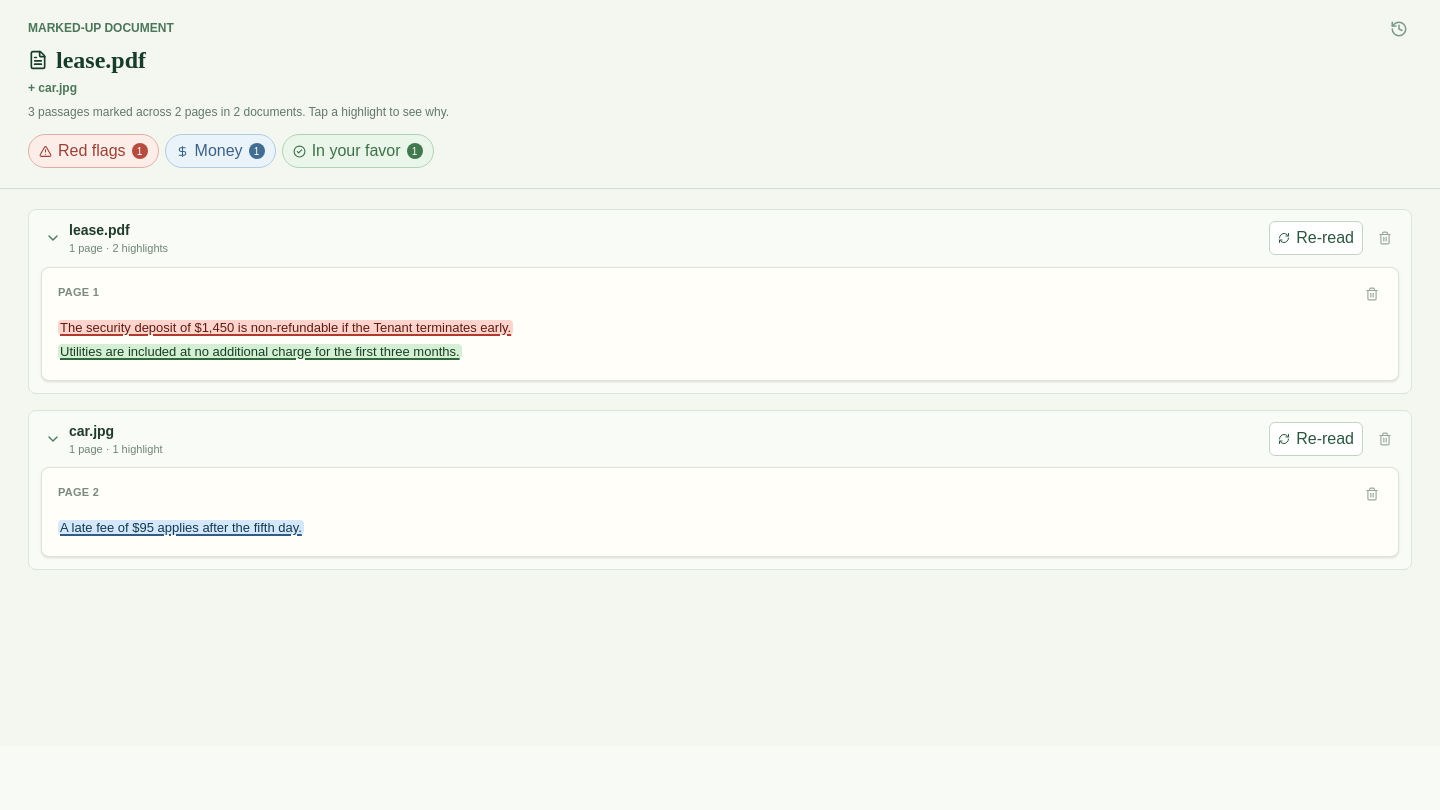
it: documents in the panel › keeps the file when deleting it fails
The image size is (1440, 810).
Click the button named "Delete car.jpg".
click(1385, 439)  # box [1371,425,1399,453]
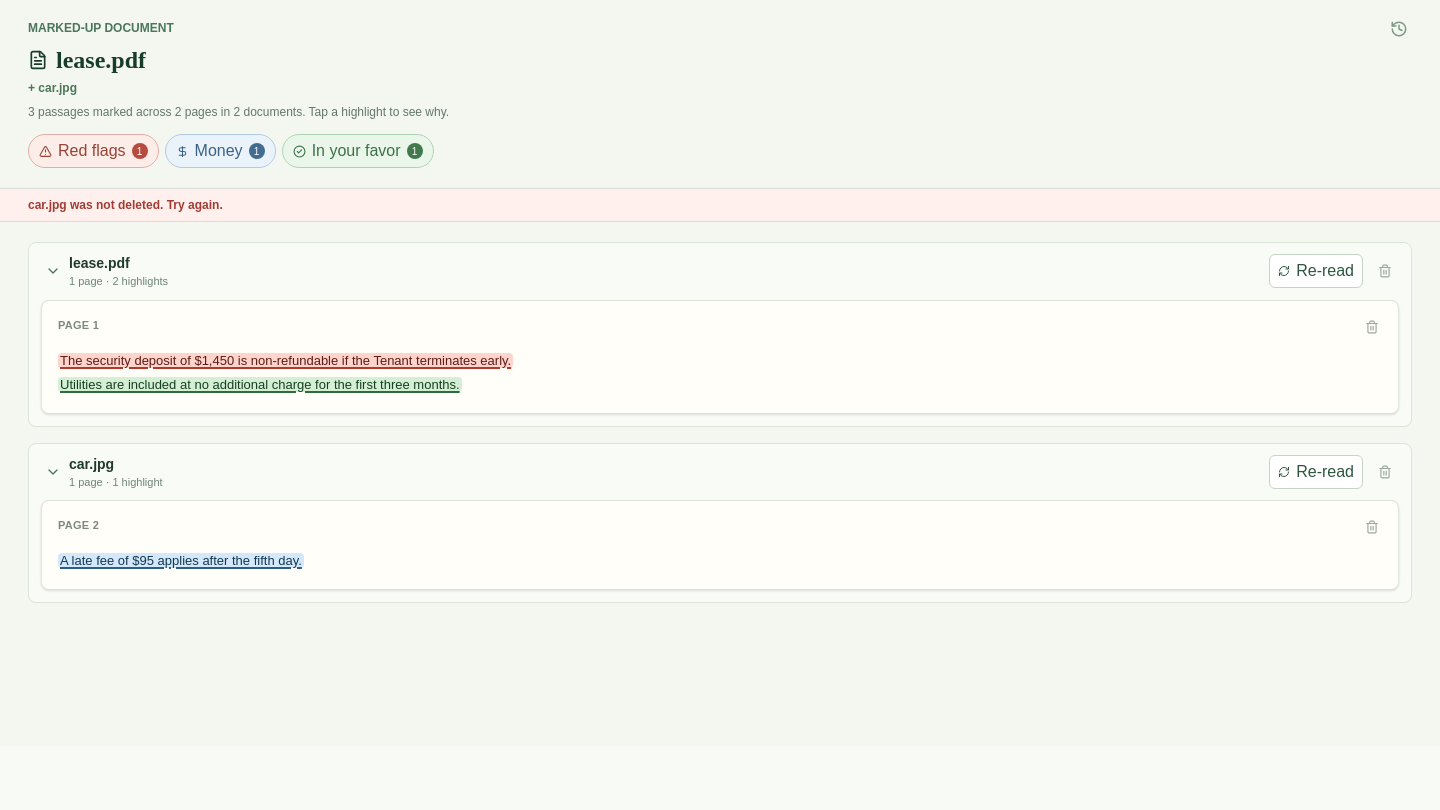
Now the message shows "car.jpg was not deleted", box [28,198,223,212]
